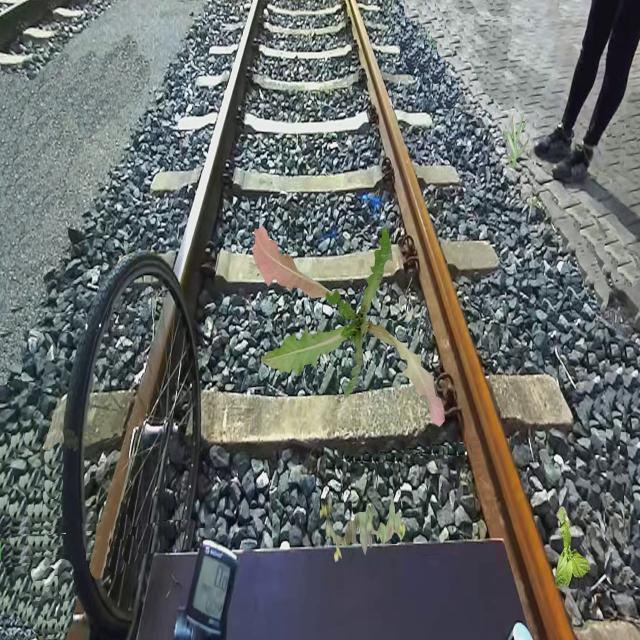Plant: (252, 225, 444, 428), (319, 494, 406, 562), (555, 506, 590, 590), (503, 112, 530, 168)
